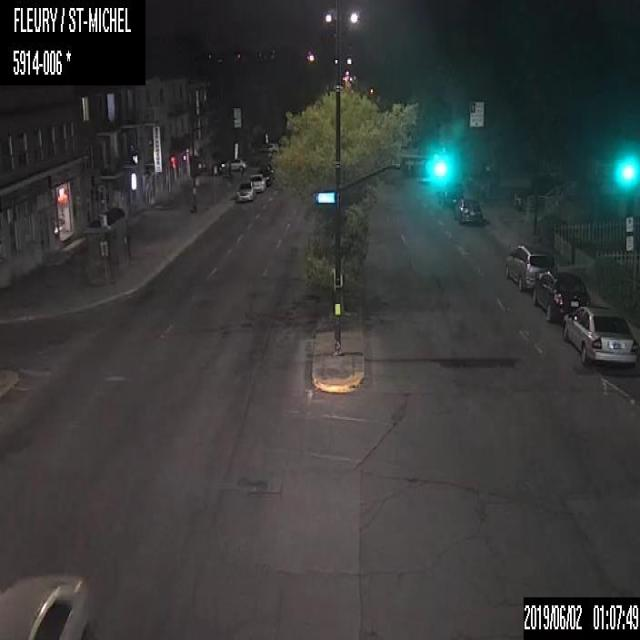vehicle: (0, 573, 96, 638), (559, 301, 639, 371), (531, 265, 588, 322), (502, 239, 552, 290), (451, 195, 483, 224), (234, 178, 254, 202), (249, 172, 265, 193), (230, 157, 246, 171), (260, 170, 271, 186)
